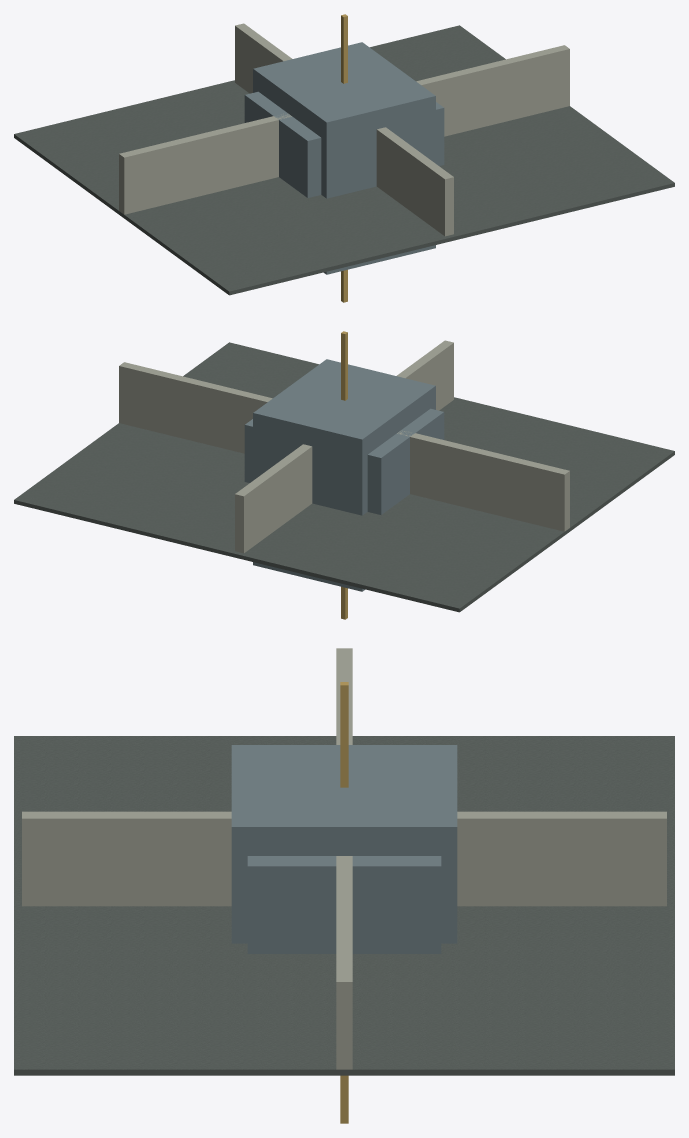
3 views of the same model, one above another, from view 1: azimuth 30°, elevation 25°; view 2: azimuth 150°, elevation 25°; view 3: azimuth 270°, elevation 25° (orthographic). The views are drawn at different scales.
Visible parts, largest first — view 1: detail-0000, body-002, detail-0069, body-000, detail-0068, detail-0070; view 2: detail-0000, body-002, detail-0069, body-000, detail-0068, detail-0070; view 3: detail-0000, body-000, detail-0069, detail-0068, body-002, detail-0070.
Part boxes in pixels (left/top/right/bottom): detail-0000: left=14, top=25, right=674, bottom=295; body-002: left=119, top=45, right=569, bottom=214; detail-0069: left=253, top=42, right=435, bottom=274; body-000: left=235, top=23, right=453, bottom=236; detail-0068: left=244, top=91, right=444, bottom=197; detail-0070: left=341, top=14, right=347, bottom=302; detail-0000: left=14, top=342, right=674, bottom=612; body-002: left=119, top=362, right=569, bottom=531; detail-0069: left=253, top=359, right=435, bottom=591; body-000: left=235, top=340, right=453, bottom=553; detail-0068: left=244, top=408, right=444, bottom=514; detail-0070: left=341, top=331, right=347, bottom=619; detail-0000: left=14, top=736, right=674, bottom=1075; body-000: left=22, top=811, right=666, bottom=906; detail-0069: left=231, top=745, right=457, bottom=943; detail-0068: left=247, top=856, right=441, bottom=953; body-002: left=336, top=648, right=352, bottom=1069; detail-0070: left=340, top=682, right=348, bottom=1123.
Size of the model in its own units: 49 by 30 by 41.
Materials: 346 (24 with a texture image).
